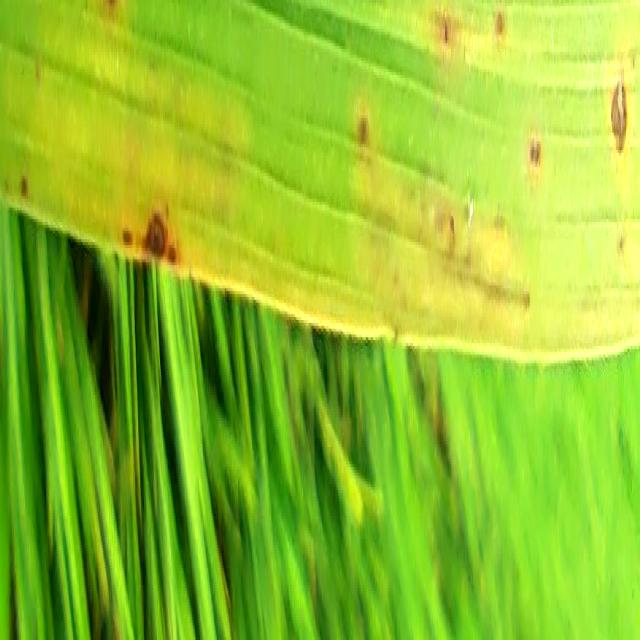LEAF BLAST: (611, 72, 627, 150), (141, 212, 166, 260), (109, 0, 111, 3)
